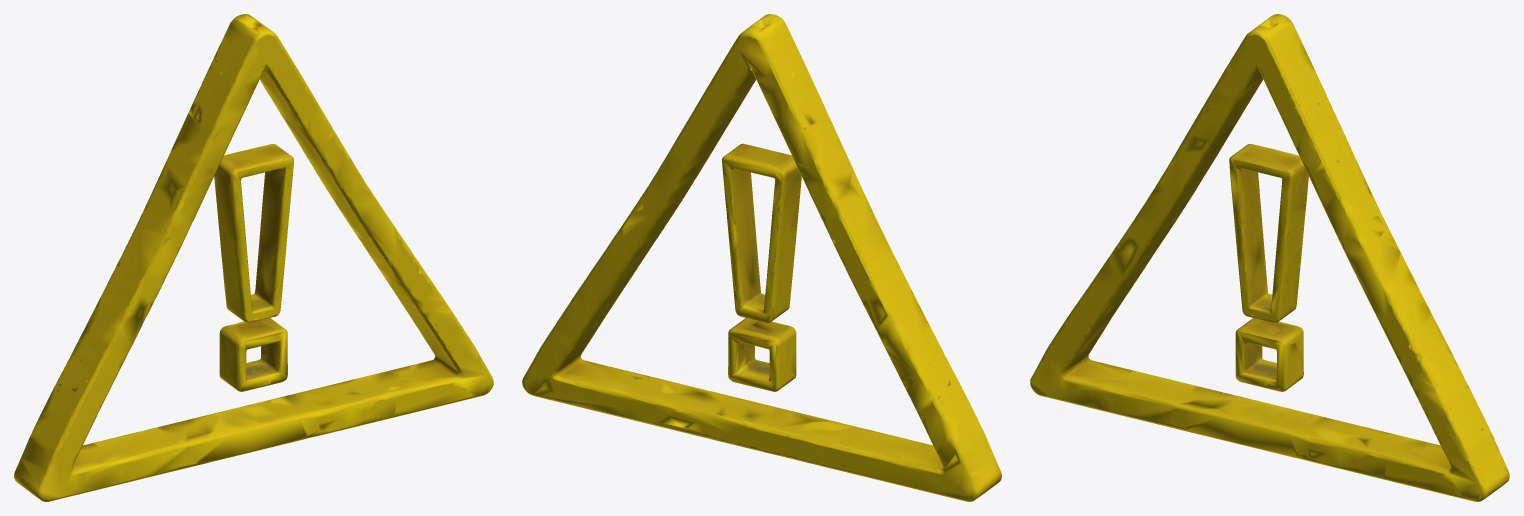
The model's file is event-marker-yellow.glb.
3 renders of one model, left to right at view 1: azimuth 30°, elevation 25°; view 2: azimuth 150°, elevation 25°; view 3: azimuth 330°, elevation 25°, orthographic.
Parts seen in each view (by area): view 1: node_0; view 2: node_0; view 3: node_0.
Boxes of the visible parts, box(x1,y1,x2,y2) form: node_0: box(14, 14, 493, 501); node_0: box(522, 14, 1001, 501); node_0: box(1030, 14, 1509, 501).
Size of the model in its own units: 0.9152 by 0.7999 by 0.0917.
1 material, 1 textured.
